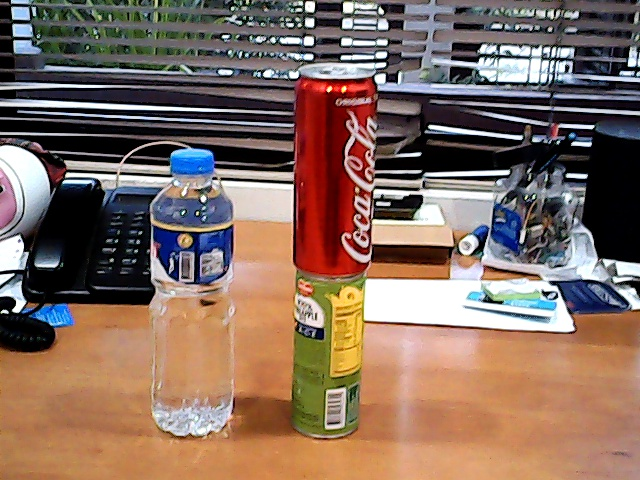Cola: (282, 60, 378, 277)
Pine Juice: (284, 269, 376, 445)
Summit Water: (136, 145, 247, 444)
